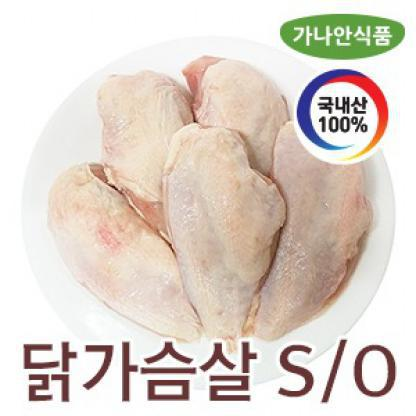chicken: (161, 116, 283, 346), (48, 158, 196, 345), (255, 101, 366, 348), (92, 56, 204, 212), (190, 44, 288, 195)
